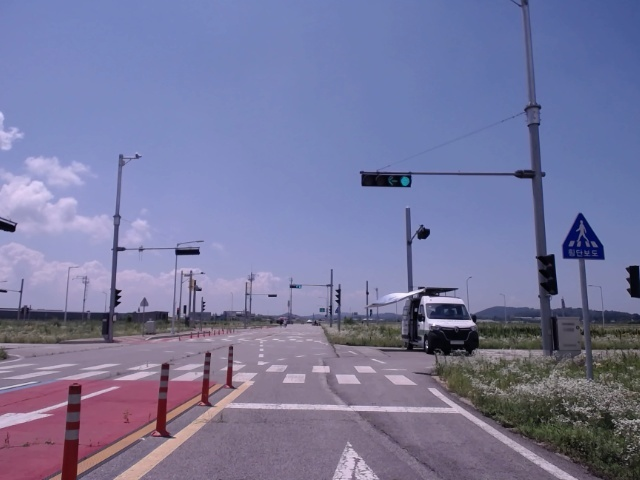all_green_4: (360, 172, 415, 189)
